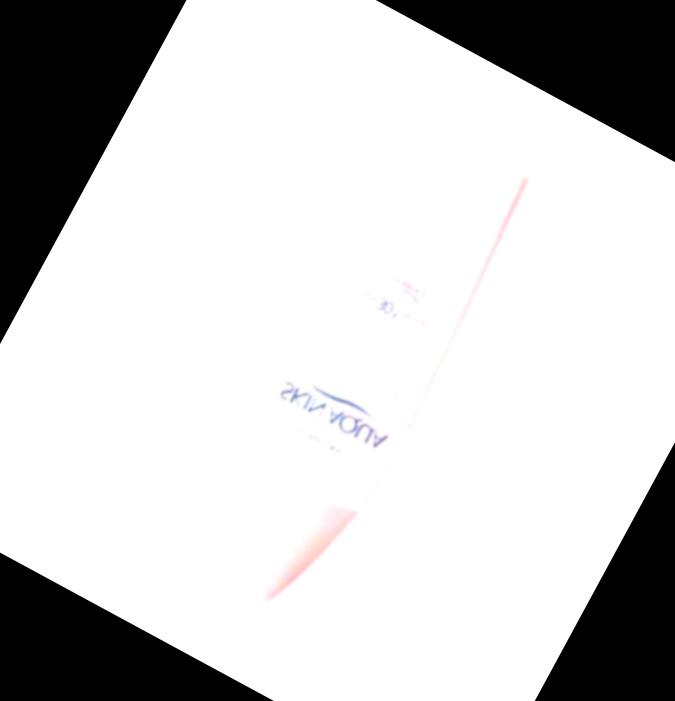cosmetic: (170, 103, 548, 630)
